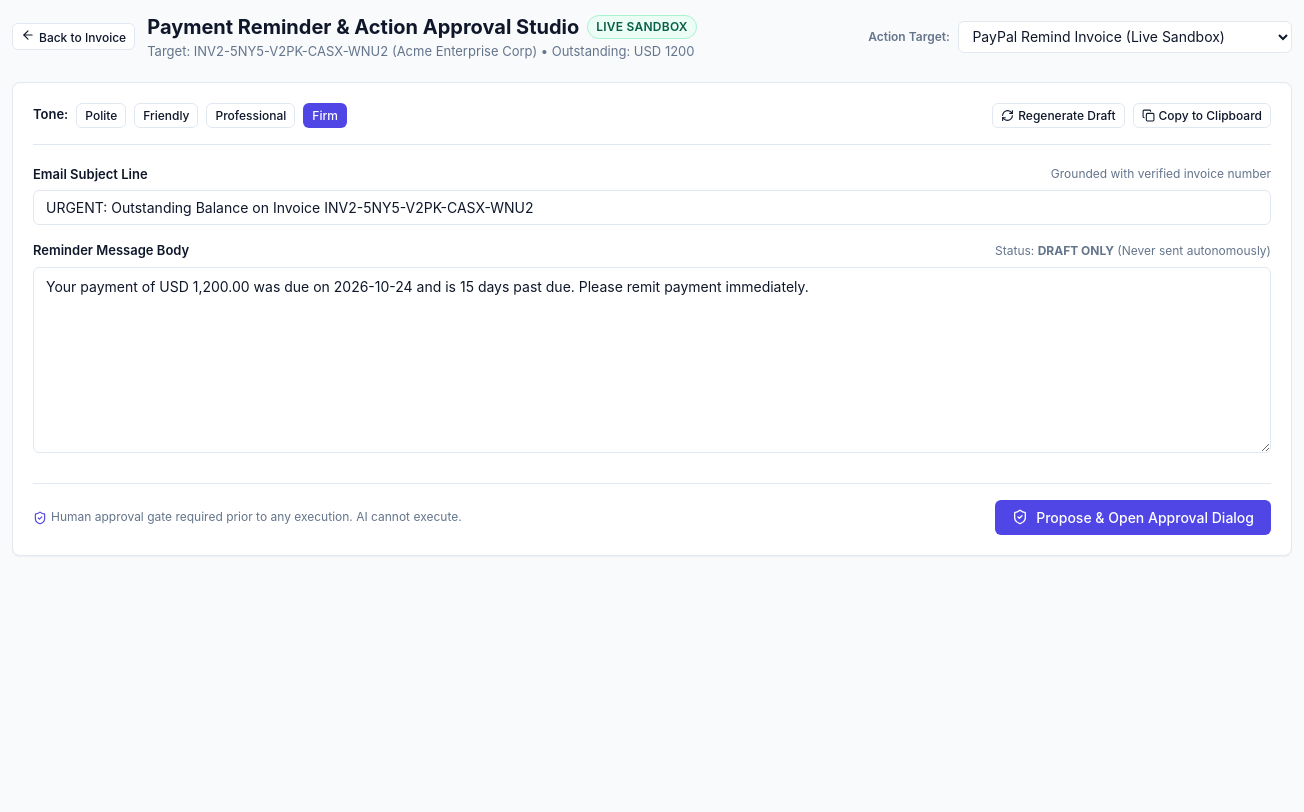
Scenario: ReminderEditor & Approval Dialog › renders error state when action proposal fails
Expected: the field showing "URGENT: Outstanding Balance" is shown, [33, 190, 1271, 225]
What coordinates should you click on to do the following:
click the button "Propose & Open Approval Dialog"
I would click on:
 (1133, 517)
Its box is [995, 500, 1271, 534].
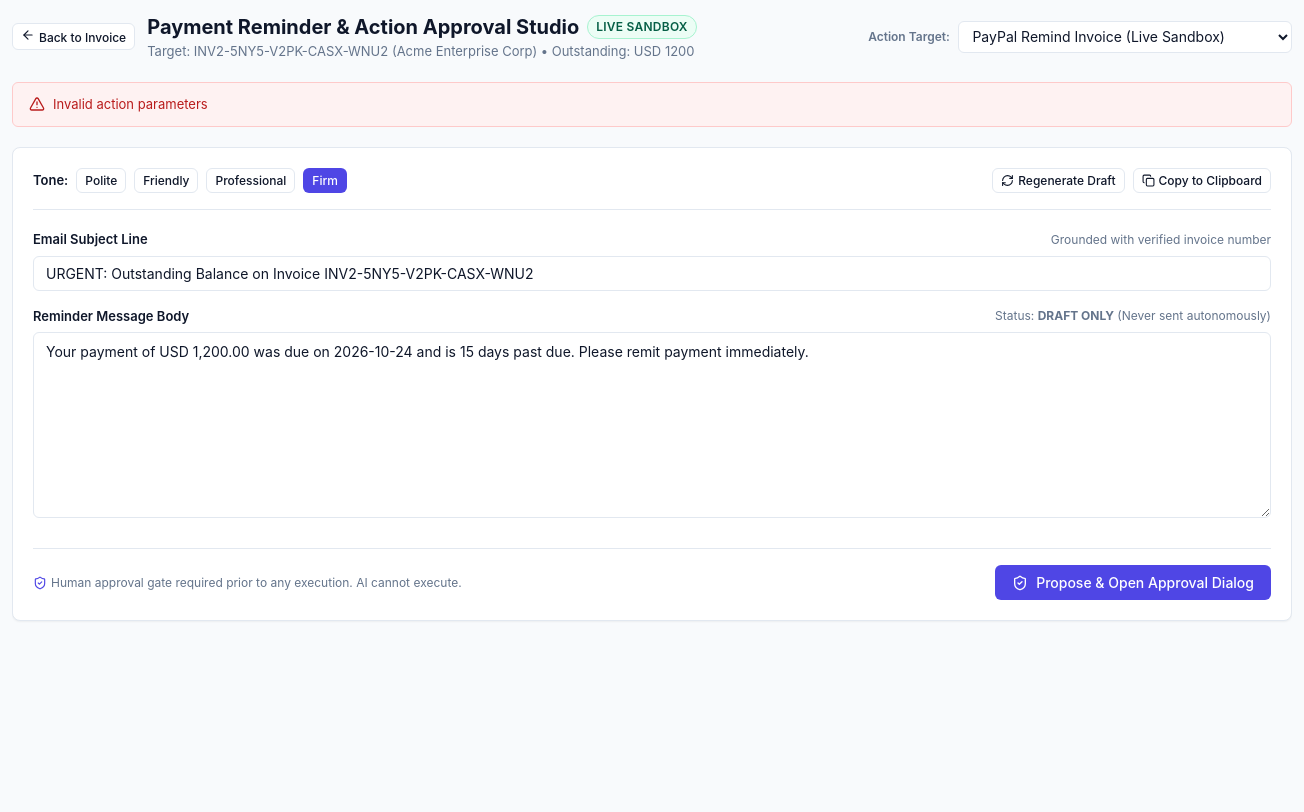
Now the text "Invalid action parameters" is shown, box [53, 94, 208, 114]
